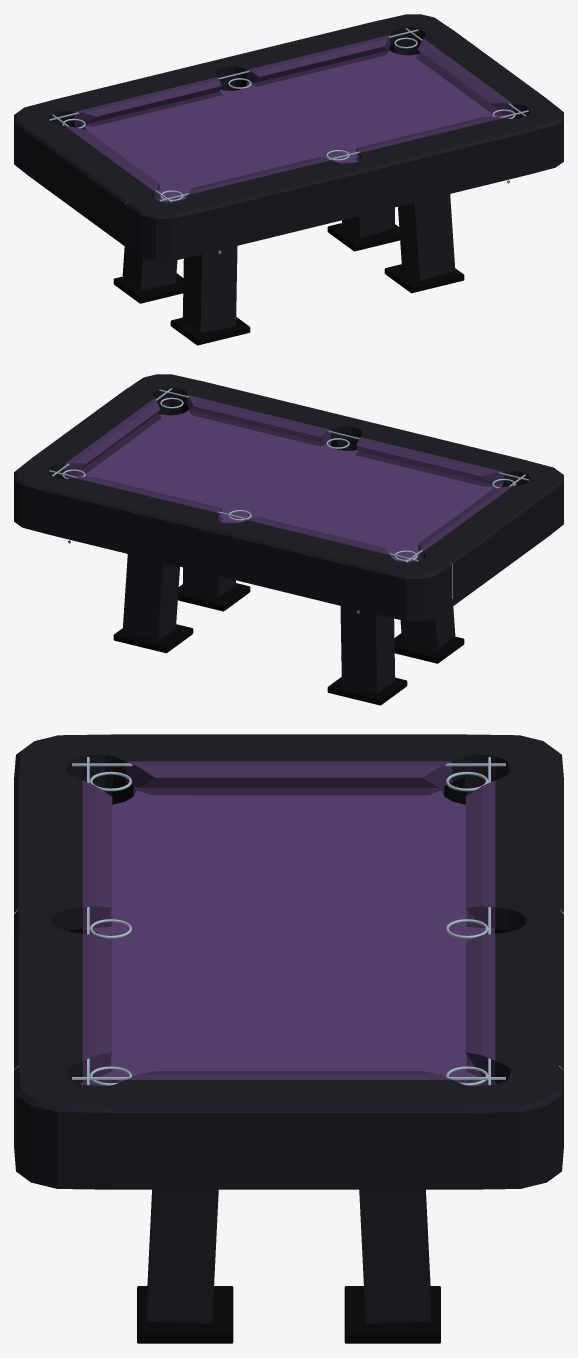
File: table-eightball-5-chinese-violet.glb
3 views of the same model, one above another, from view 1: azimuth 30°, elevation 25°; view 2: azimuth 150°, elevation 25°; view 3: azimuth 270°, elevation 25° (orthographic). The views are drawn at different scales.
Parts seen in each view (by area): view 1: table-eightball-5-chinese-violet, break-builder-table-support, chinese-steel-cushion-details; view 2: table-eightball-5-chinese-violet, break-builder-table-support, chinese-steel-cushion-details; view 3: table-eightball-5-chinese-violet, break-builder-table-support, chinese-steel-cushion-details.
Part boxes in pixels (x1,y1,x2,y2): table-eightball-5-chinese-violet: (14, 14, 563, 261); break-builder-table-support: (113, 194, 464, 345); chinese-steel-cushion-details: (49, 28, 528, 202); table-eightball-5-chinese-violet: (14, 374, 563, 621); break-builder-table-support: (113, 554, 464, 705); chinese-steel-cushion-details: (49, 388, 528, 562); table-eightball-5-chinese-violet: (14, 734, 563, 1189); break-builder-table-support: (137, 1189, 440, 1343); chinese-steel-cushion-details: (72, 757, 505, 1085).
Size of the model in its own units: 1.64 by 0.6219 by 1.01.
Materials: 32 (1 with a texture image).
